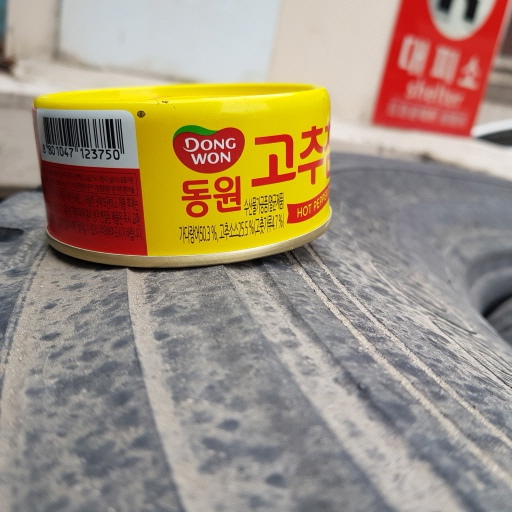Metal_1: (31, 80, 339, 266)
